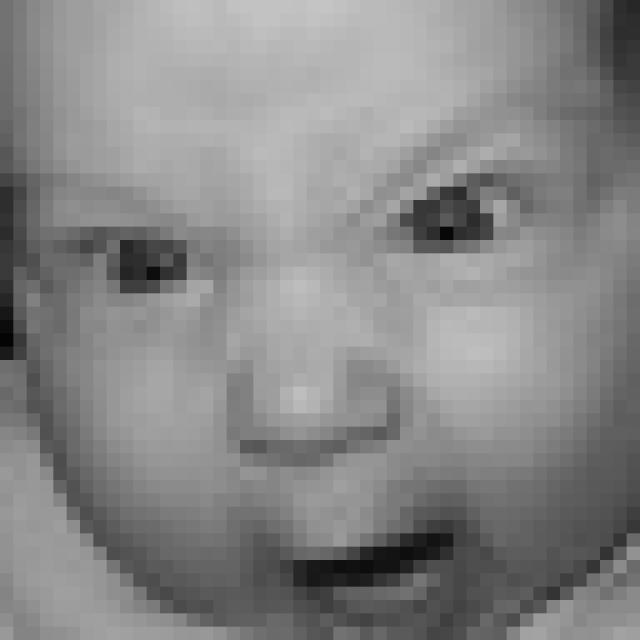angry: (21, 76, 604, 633)
